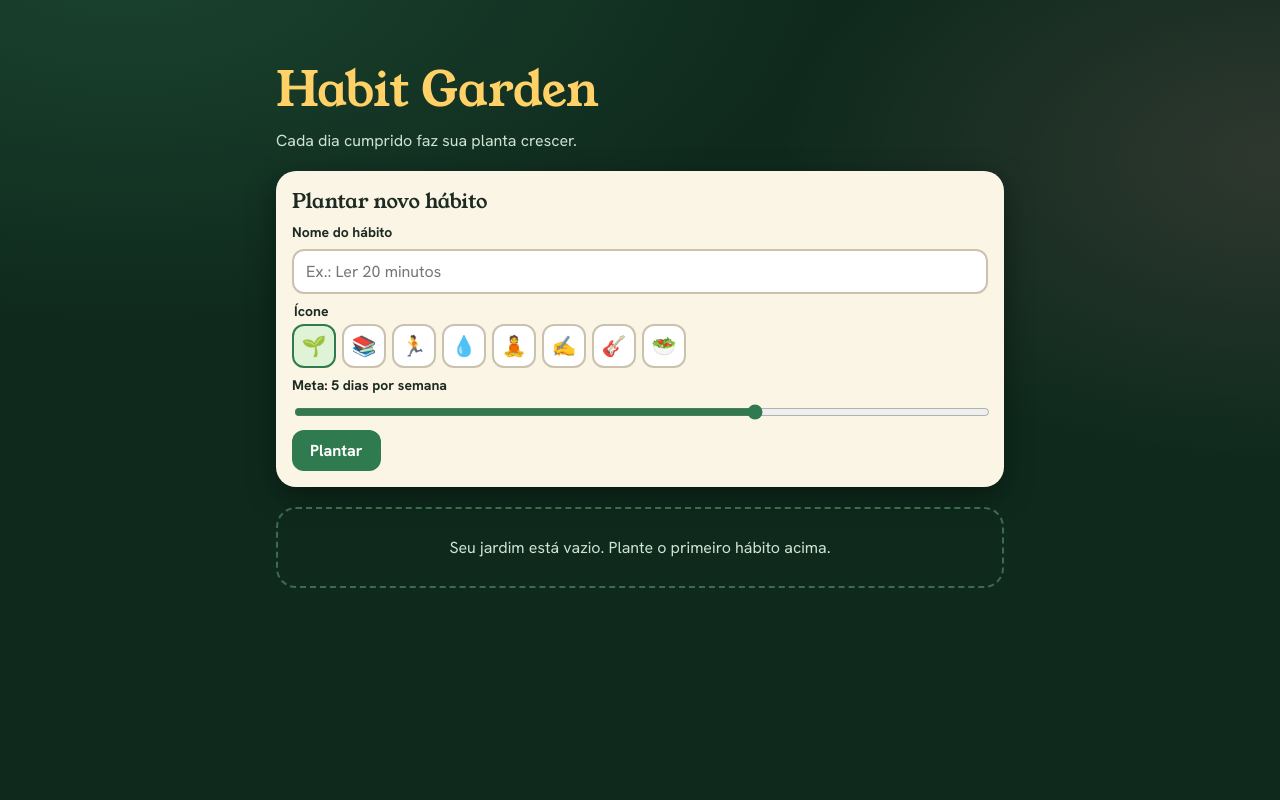
Scenario: valida nome vazio e duplicado
The width and height of the screenshot is (1280, 800).
Step 1. Click the button "Plantar" → coordinates (336, 450), box left=292, top=430, right=381, bottom=471
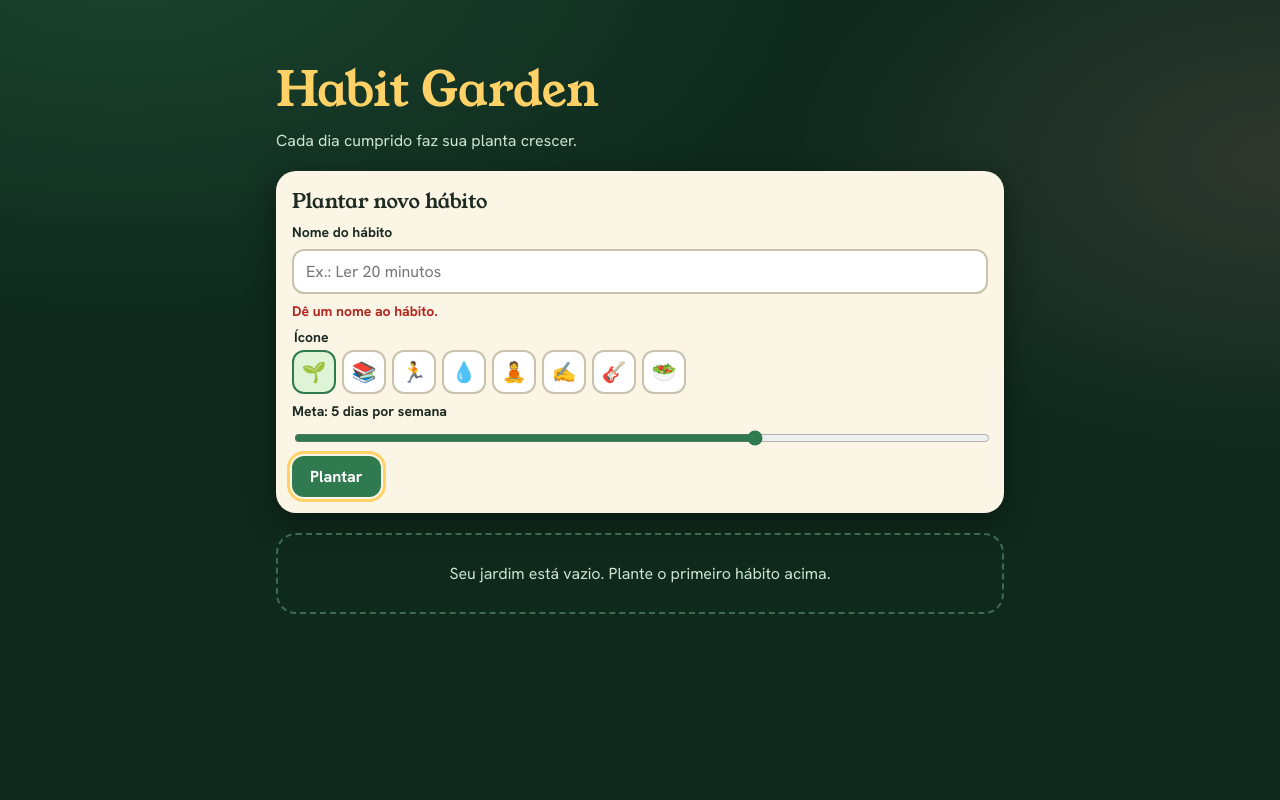
Check: the message shows "Dê um nome", box left=292, top=302, right=438, bottom=320
Step 2. Type "Ler" into the field labelled "Nome do hábito" → coordinates (640, 272), box left=292, top=249, right=988, bottom=294
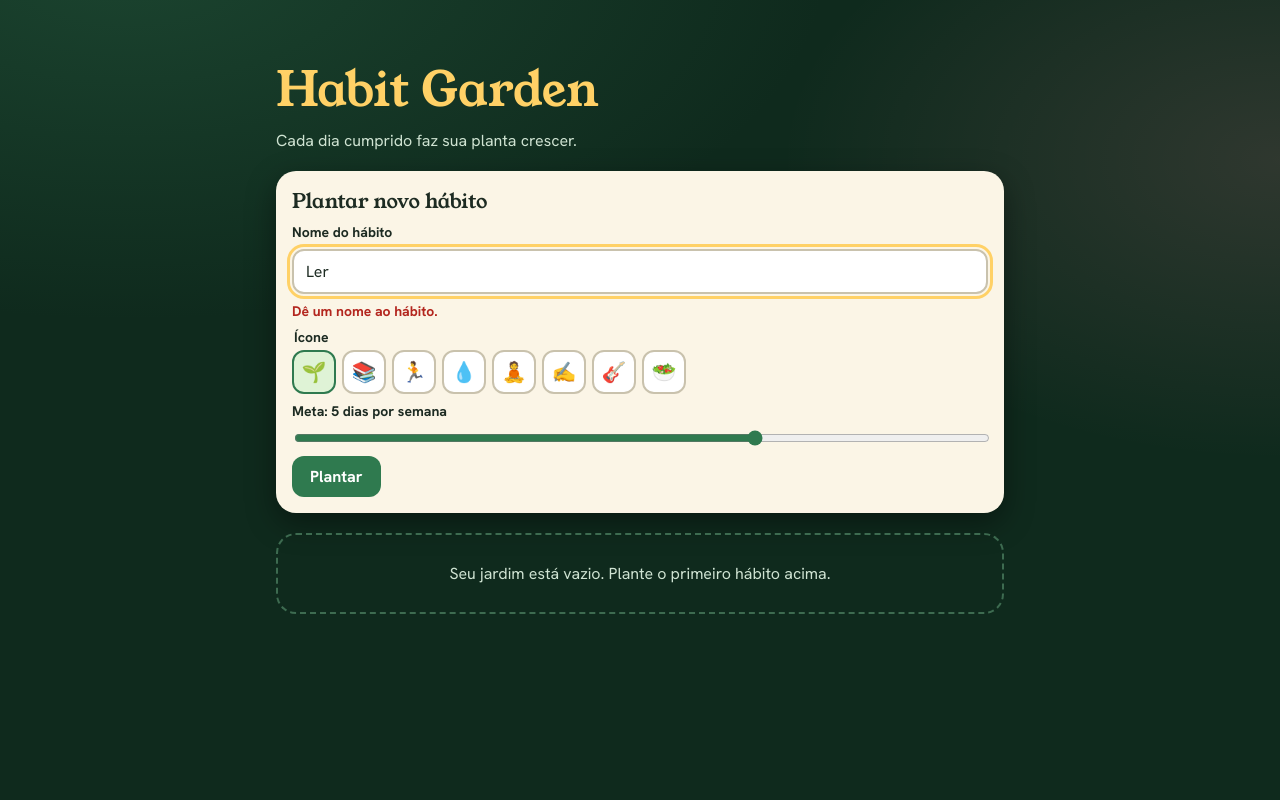
Step 3. Click the button "Plantar" → coordinates (336, 476), box left=292, top=456, right=381, bottom=497
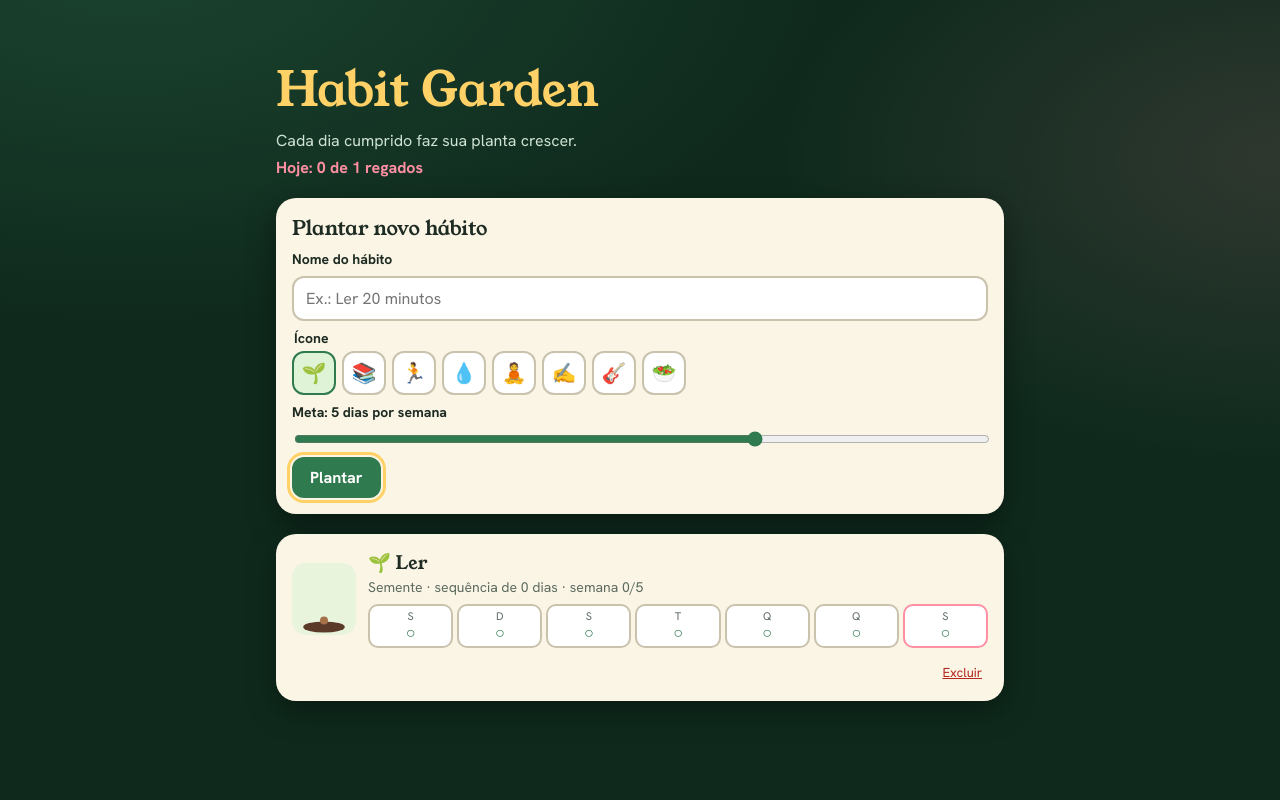
Step 4. Type "ler" into the field labelled "Nome do hábito" → coordinates (640, 298), box left=292, top=276, right=988, bottom=321
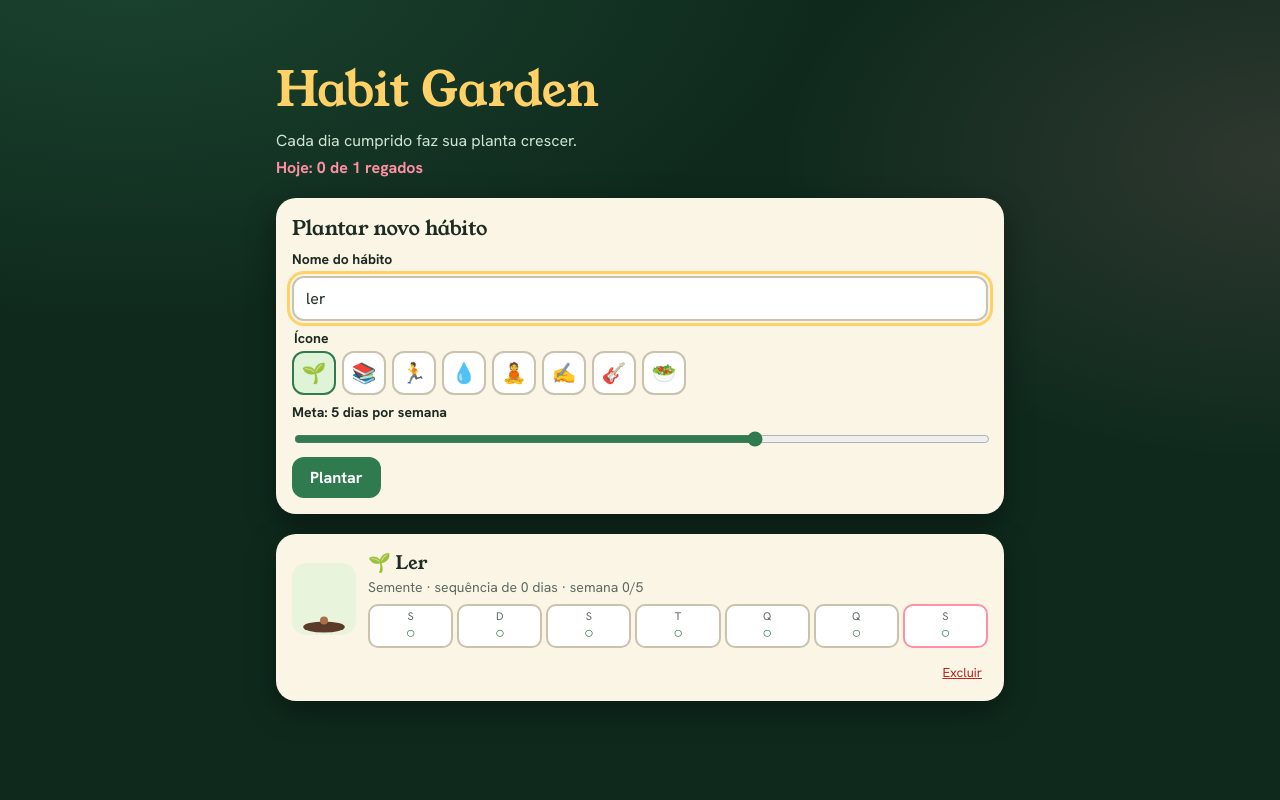
Step 5. Click the button "Plantar" → coordinates (336, 478), box left=292, top=457, right=381, bottom=498
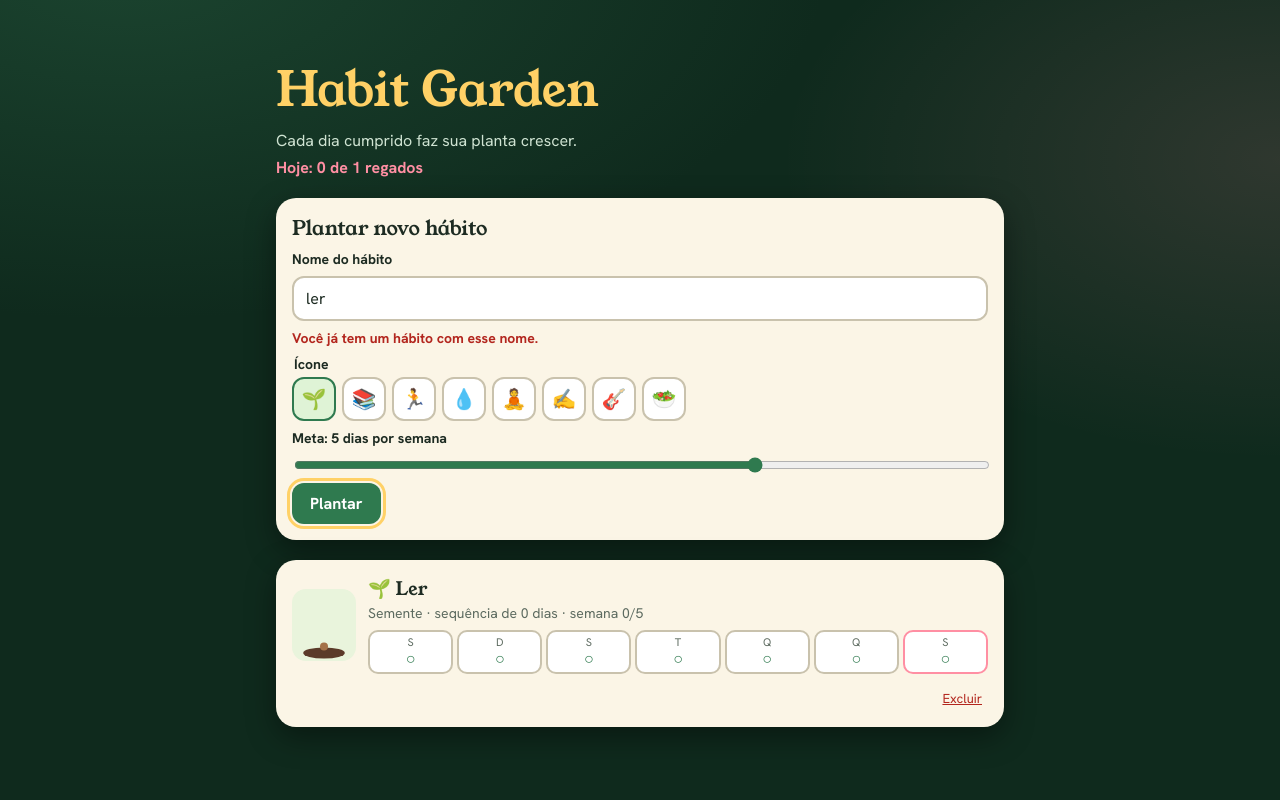
Check: the message "Você já tem um hábito com esse nome." is shown, box left=292, top=329, right=538, bottom=347
